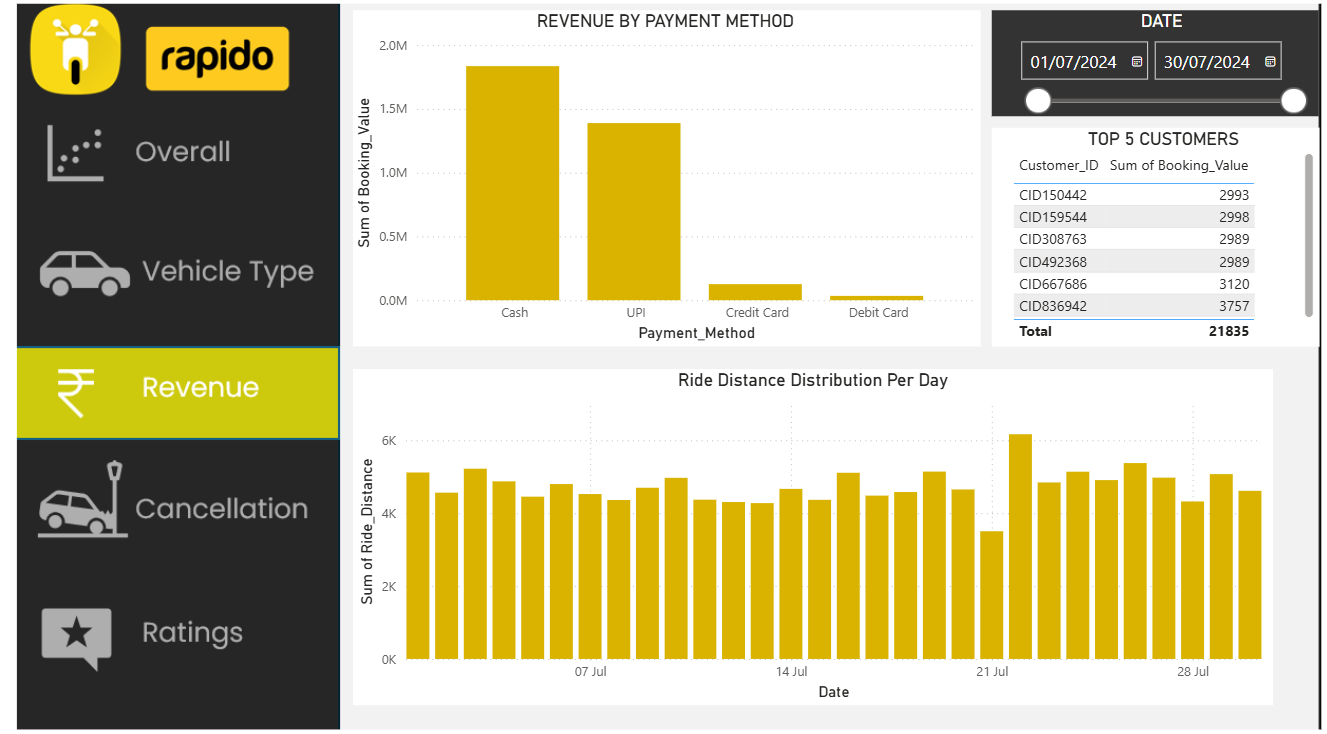

The page's visual inventory and layout, read from the dashboard file:
{"tool":"powerbi","page":{"name":"REVENUE","canvas":[1280,720],"ordinal":2},"visuals":[{"type":"actionButton","box":[20.5,339,310.1,88.1],"z":0},{"type":"actionButton","box":[20.5,451.2,310.1,88.1],"z":1000},{"type":"columnChart","title":"REVENUE BY PAYMENT METHOD","fields":{"Y":["Sum(Bengaluru_Bookings_10k.Booking_Value)"],"Category":["Bengaluru_Bookings_10k.Payment_Method"]},"box":[341.4,20,594.3,318.6],"z":2000},{"type":"columnChart","title":"Ride Distance Distribution Per Day","fields":{"Y":["Sum(Bengaluru_Bookings_10k.Ride_Distance)"],"Category":["Bengaluru_Bookings_10k.Date"]},"box":[341.4,360,871.4,318.6],"z":3000},{"type":"slicer","title":"DATE","fields":{"Values":["Bengaluru_Bookings_10k.Date"]},"box":[945.7,20,308.6,100],"z":4000},{"type":"tableEx","title":"TOP 5 CUSTOMERS","fields":{"Values":["Bengaluru_Bookings_10k.Customer_ID","Sum(Bengaluru_Bookings_10k.Booking_Value)"]},"box":[945.7,131.4,310,207.1],"z":5000}]}

Visuals, with their boxes in screenshot pixels (x1, y1, x2, y2), scaled from the page's 1280x720 canvas onto the 1327x734 screenshot:
actionButton: [21, 346, 343, 435]
actionButton: [21, 460, 343, 550]
"REVENUE BY PAYMENT METHOD" columnChart: [354, 20, 970, 345]
"Ride Distance Distribution Per Day" columnChart: [354, 367, 1257, 692]
"DATE" slicer: [980, 20, 1300, 122]
"TOP 5 CUSTOMERS" tableEx: [980, 134, 1302, 345]
